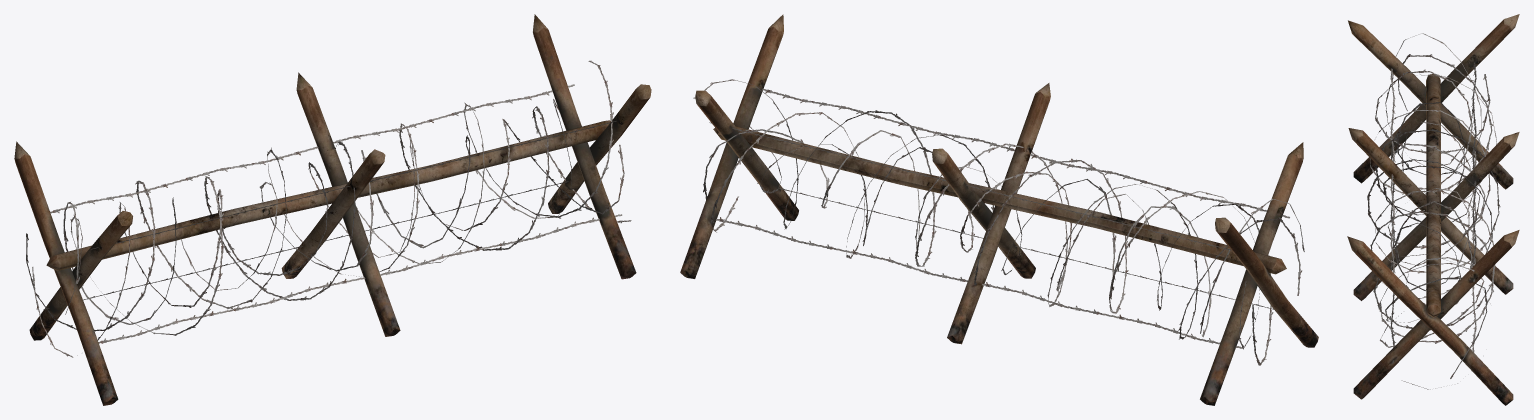
The model's file is barbed_barrier.gltf.
3 renders of one model, left to right at view 1: azimuth 30°, elevation 25°; view 2: azimuth 150°, elevation 25°; view 3: azimuth 270°, elevation 25°, orthographic. The views are drawn at different scales.
Visible parts, largest first — view 1: barbed_barrier; view 2: barbed_barrier; view 3: barbed_barrier.
Boxes of the visible parts, x1,y1,x2,y2 form: barbed_barrier: (14,14,651,405); barbed_barrier: (680,14,1318,405); barbed_barrier: (1347,14,1519,405).
Bounding box in the file's own units: 3.4 × 1.12 × 1.04.
1 material, 1 textured.
